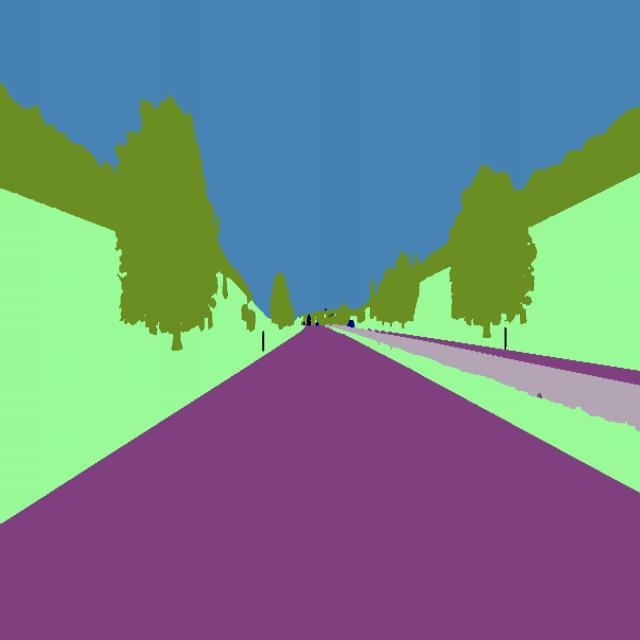safe: (347, 318, 357, 332)
